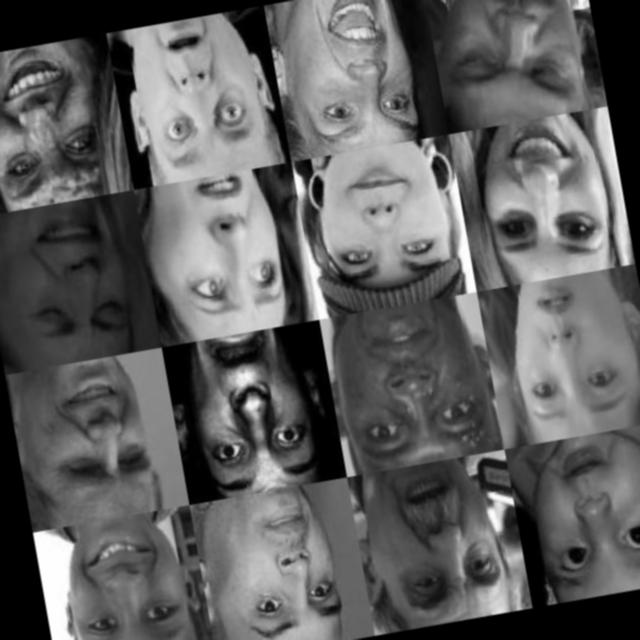angry: (358, 458, 522, 628), (278, 0, 419, 139)
fear: (152, 165, 300, 346), (176, 320, 326, 490), (130, 8, 276, 182), (493, 266, 640, 435), (525, 428, 640, 594)
happy: (305, 126, 468, 312), (468, 109, 624, 287), (18, 351, 164, 526), (42, 507, 195, 640), (0, 35, 118, 207)
neutral: (334, 296, 498, 477), (212, 481, 354, 640), (418, 0, 588, 129)
sad: (0, 203, 143, 371)
